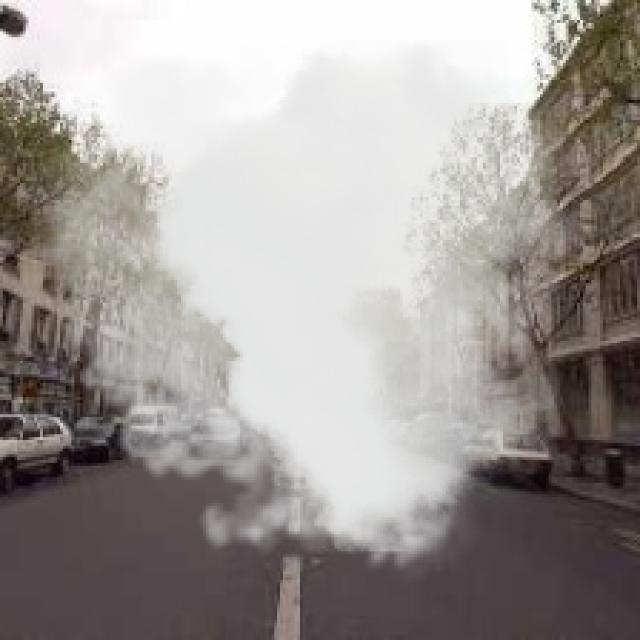Smoke: (8, 40, 566, 586)
